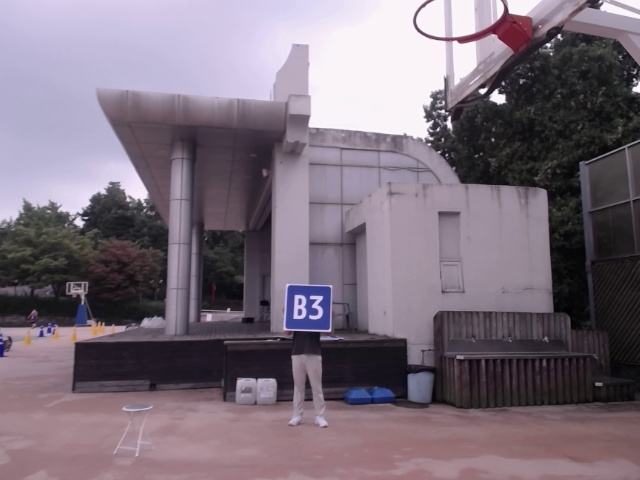delivery_b3: (285, 283, 332, 331)
